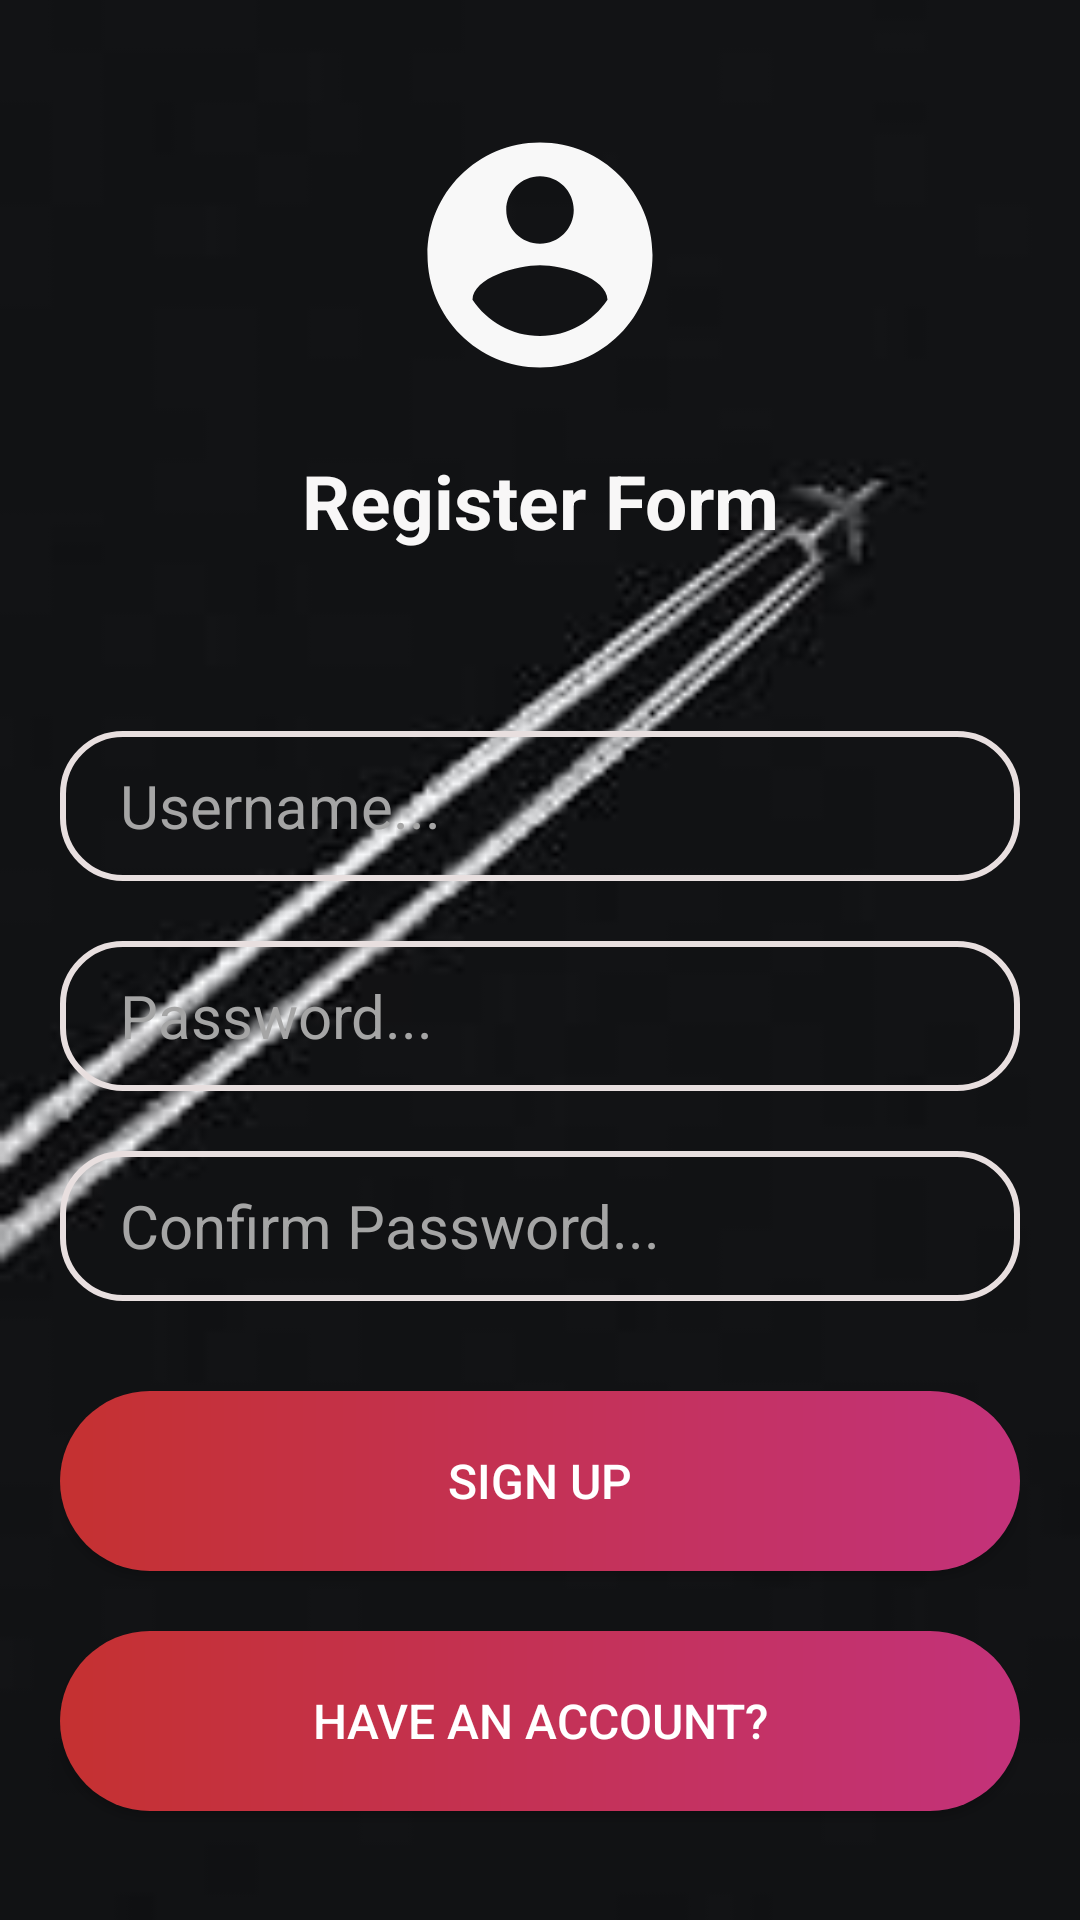

Icon bounding boxes for this 1080 × 1920 phone screenshot, format (x1, y1, x2, y2):
user: (427, 142, 653, 368)
